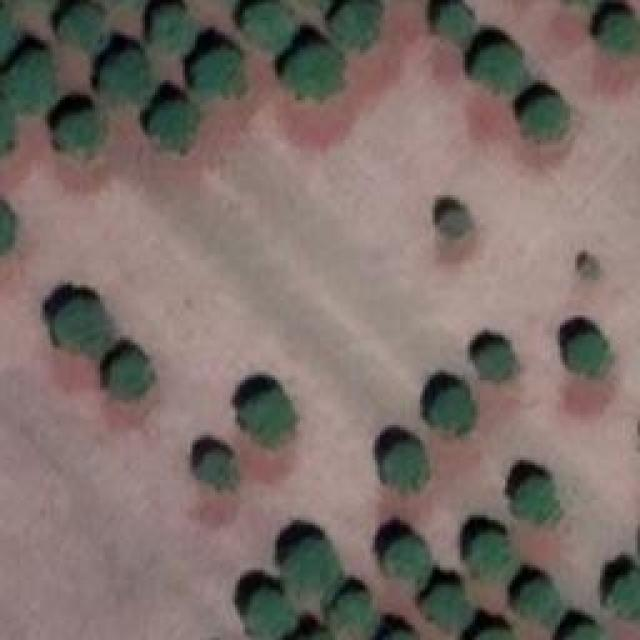Tree: (240, 390, 295, 450), (55, 297, 110, 355), (285, 45, 343, 98), (285, 540, 340, 593), (5, 52, 55, 110), (100, 53, 148, 106), (475, 45, 528, 93), (150, 100, 198, 150), (195, 50, 243, 100), (245, 2, 293, 50), (422, 585, 470, 633), (515, 475, 558, 523), (110, 352, 153, 400), (333, 0, 378, 45), (515, 580, 560, 625), (248, 590, 293, 635), (333, 593, 378, 636), (60, 5, 103, 48), (433, 388, 476, 431), (52, 110, 100, 148), (437, 2, 475, 50), (472, 530, 510, 578), (523, 98, 563, 141), (388, 535, 428, 578), (387, 443, 425, 488), (152, 8, 190, 51), (602, 13, 640, 53), (198, 452, 238, 490), (605, 575, 640, 615), (570, 335, 605, 375), (478, 345, 513, 380), (0, 98, 15, 158), (440, 208, 470, 238), (562, 625, 610, 640)
